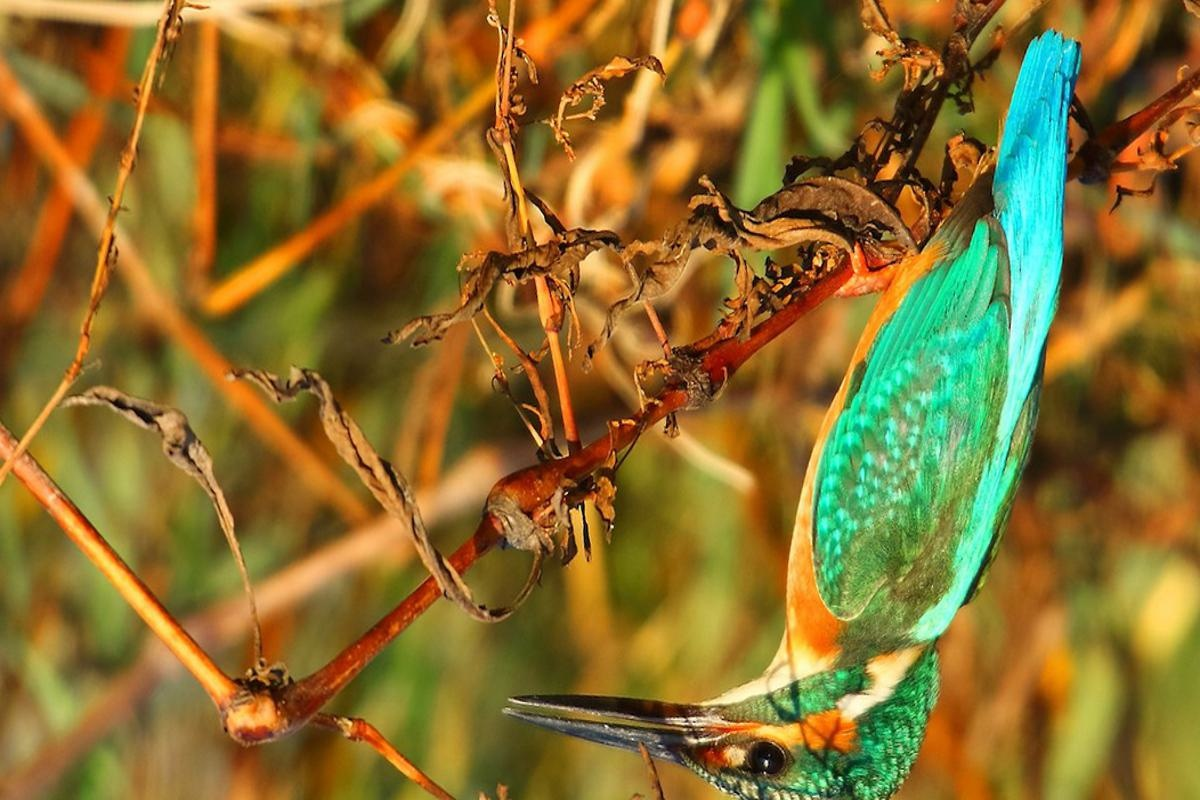kingfisher: (502, 21, 1088, 797)
